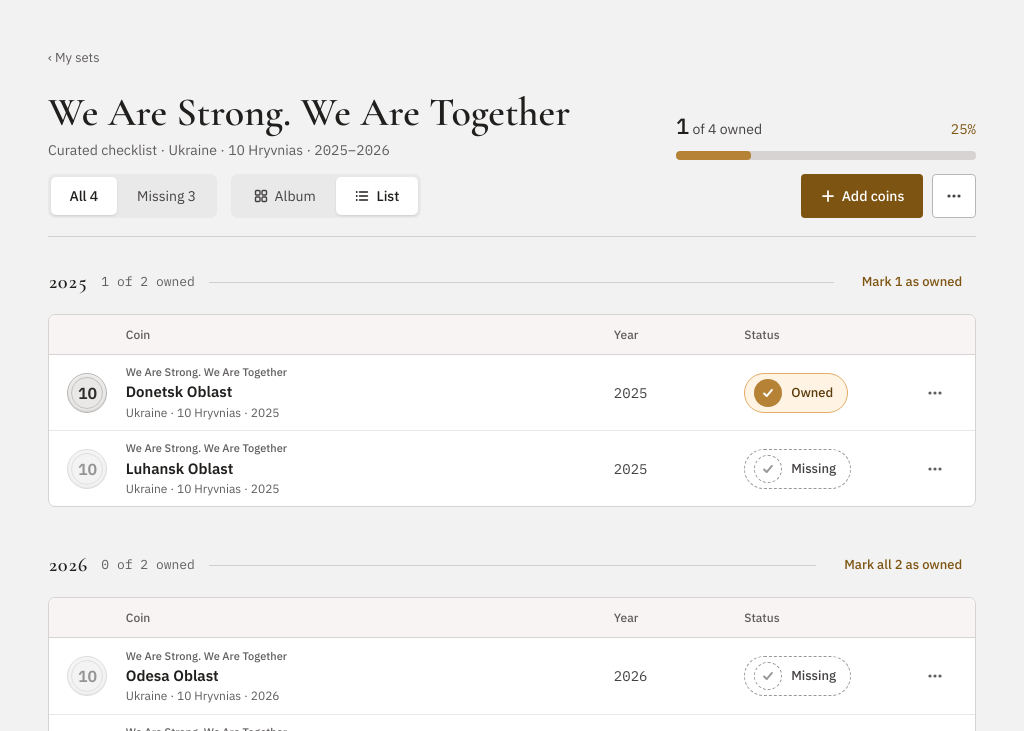
SetEditorPage: Album default, views and year groups › view is kept in the URL (replaceState, never a router push) › switching back to Album removes the view param
This screenshot has width=1024, height=731.
Expected: the 1st element with test id "set-coin-list" is shown, [48,314,976,507]
Click the button with test id "set-editor-view-album-toggle" at point(284, 196), box [234,177,334,215]
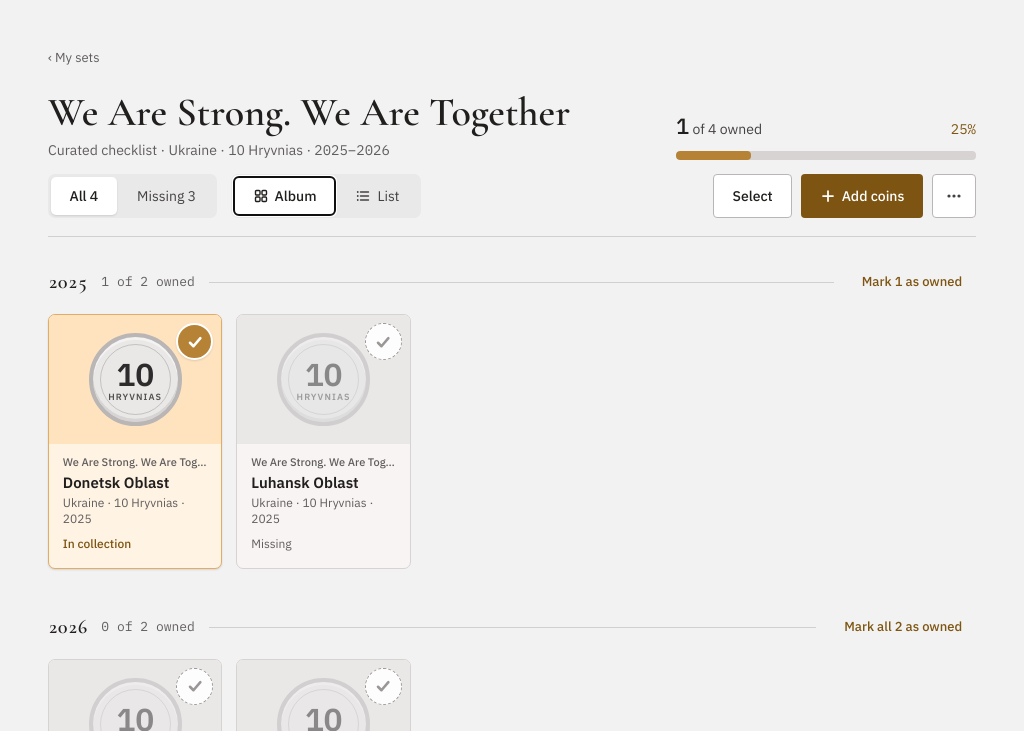
Expected: the 1st list with test id "set-album-grid" is shown, [48,314,411,569]
